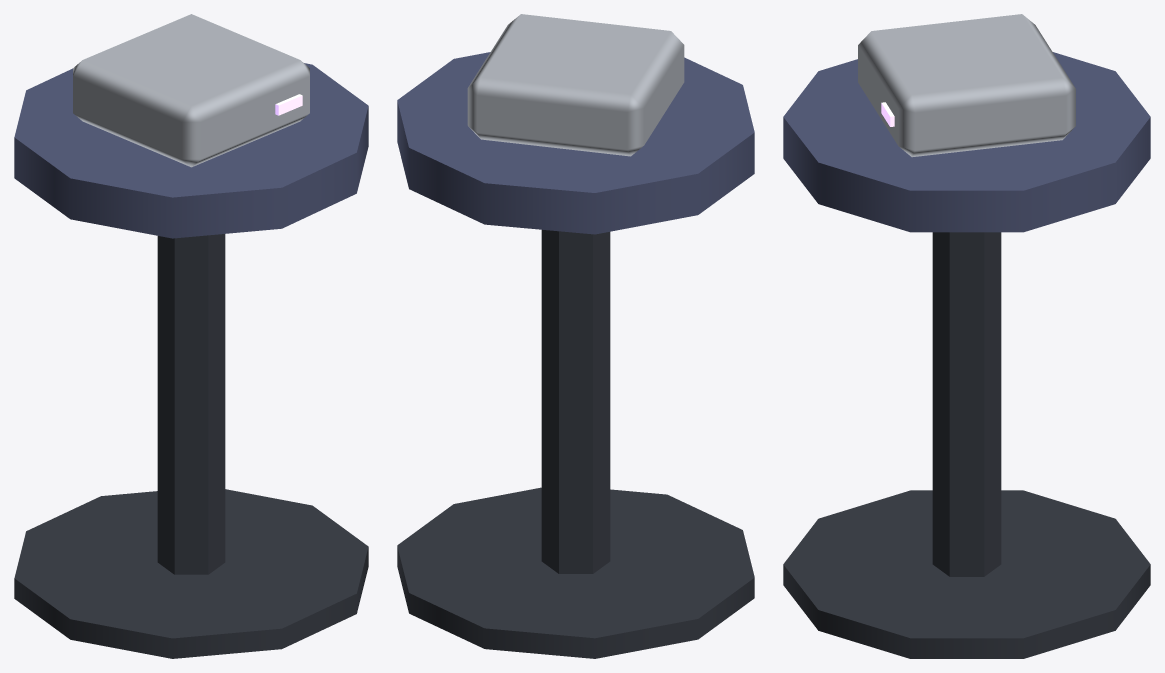
The model's file is station_special_ausstattung_1_0.glb.
3 views of the same model, side by side, from view 1: azimuth 30°, elevation 25°; view 2: azimuth 150°, elevation 25°; view 3: azimuth 270°, elevation 25° (orthographic).
Visible parts, largest first — view 1: station_special_ausstattung_1_0; view 2: station_special_ausstattung_1_0; view 3: station_special_ausstattung_1_0.
Part boxes in pixels (x1,y1,x2,y2): station_special_ausstattung_1_0: (14,14,368,658); station_special_ausstattung_1_0: (397,14,754,658); station_special_ausstattung_1_0: (783,14,1150,658).
Size of the model in its own units: 0.3043 by 0.51 by 0.32.
